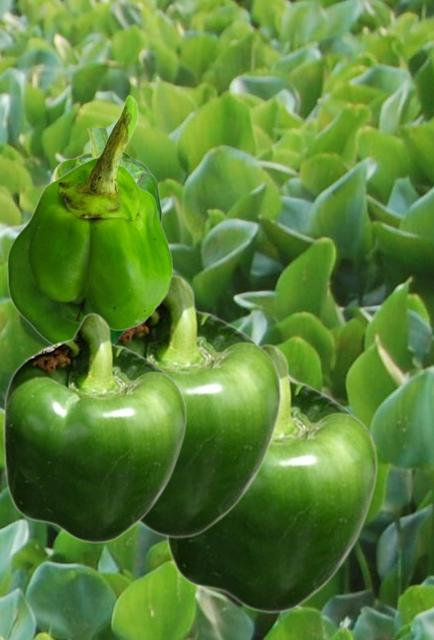bell_pepper: (164, 343, 377, 613), (117, 274, 281, 538), (2, 312, 186, 543), (6, 94, 172, 343), (49, 128, 161, 343)
